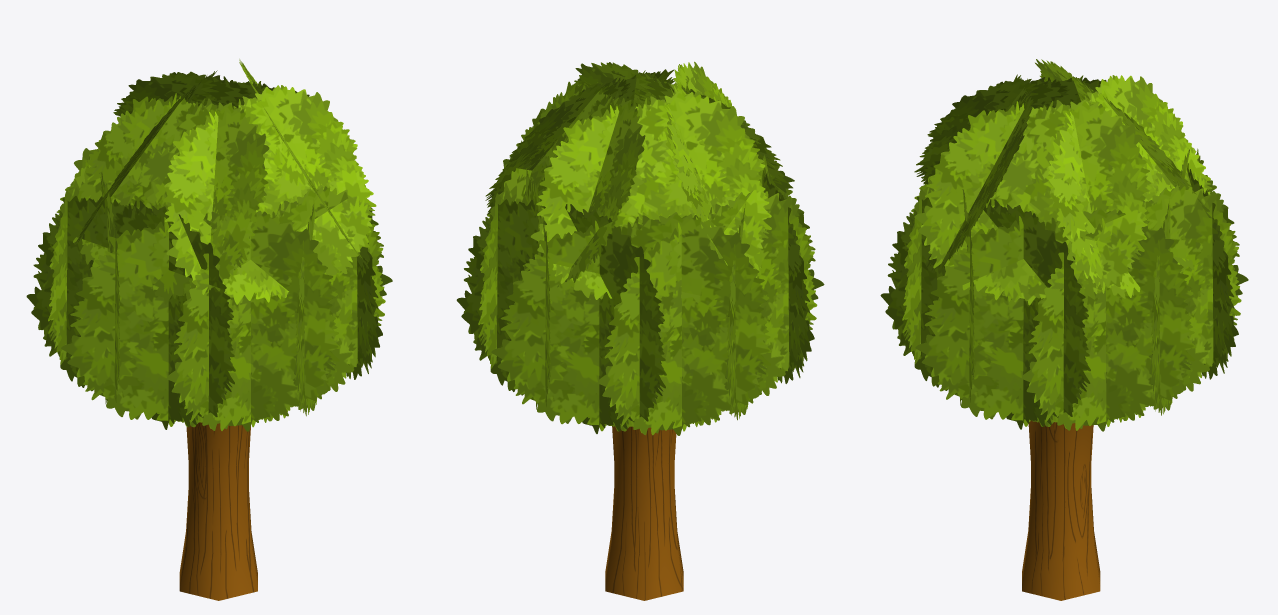
The model's file is tree001.FBX.
The picture shows the model from 3 angles, left to right: view 1: azimuth 30°, elevation 25°; view 2: azimuth 150°, elevation 25°; view 3: azimuth 270°, elevation 25°; orthographic projection.
Visible parts, largest first — view 1: tree001; view 2: tree001; view 3: tree001.
Boxes of the visible parts, x1=… form: tree001: x1=26, y1=59, x2=392, y2=600; tree001: x1=456, y1=61, x2=824, y2=600; tree001: x1=880, y1=59, x2=1248, y2=600.
Bounding box in the file's own units: 1341 × 1878 × 1311.
